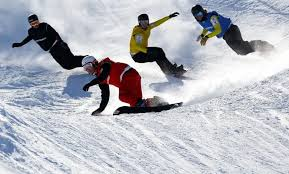snowboard: (113, 100, 184, 118), (167, 69, 190, 77)
